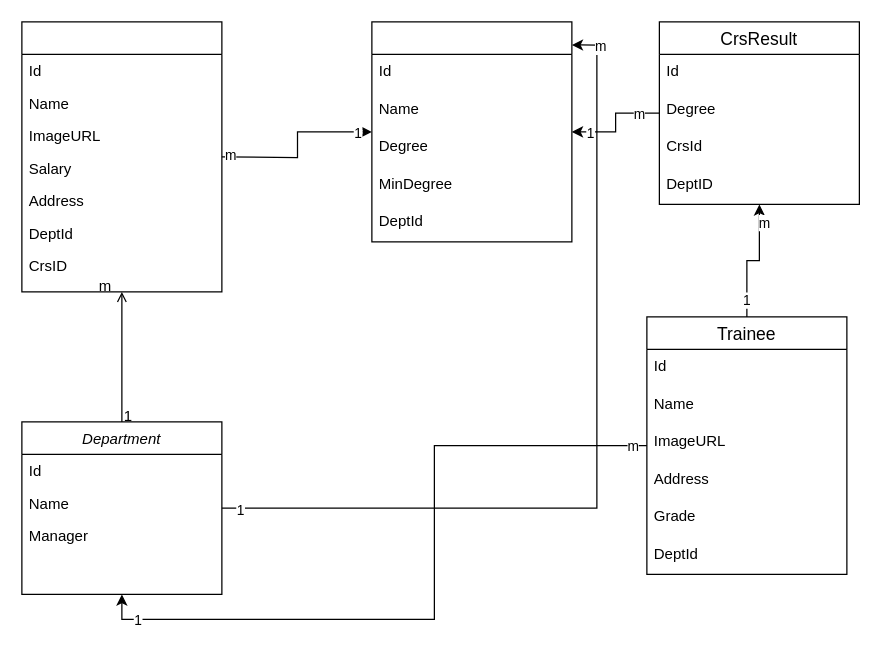
The diagram is 881 pixels wide and 651 high, and some of its shapes have lost their labels. The box of each missing label's shape, as (x1, y1, x2, y2) in pixels:
Course: (371, 21, 572, 242)
Instructor: (21, 21, 222, 292)
